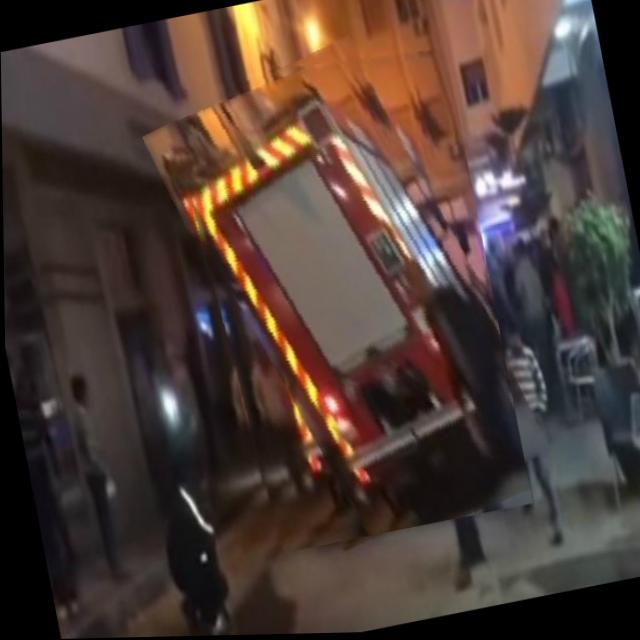Protection Civile: (159, 28, 532, 561)
